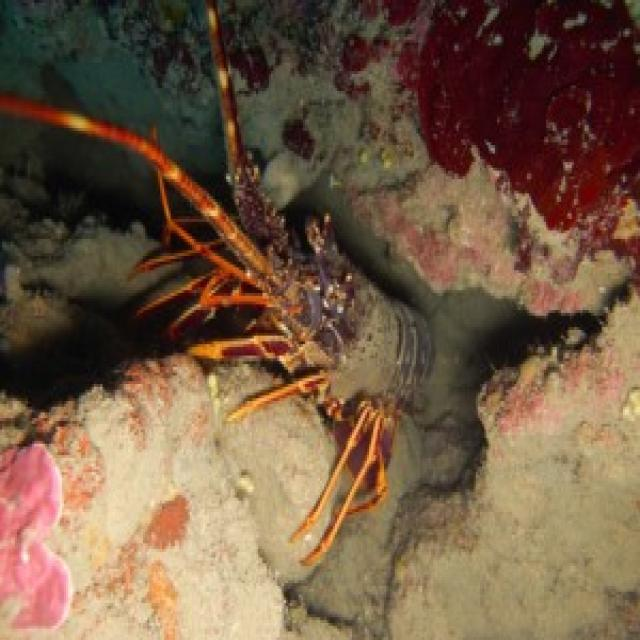lobsters: (18, 0, 589, 532)
